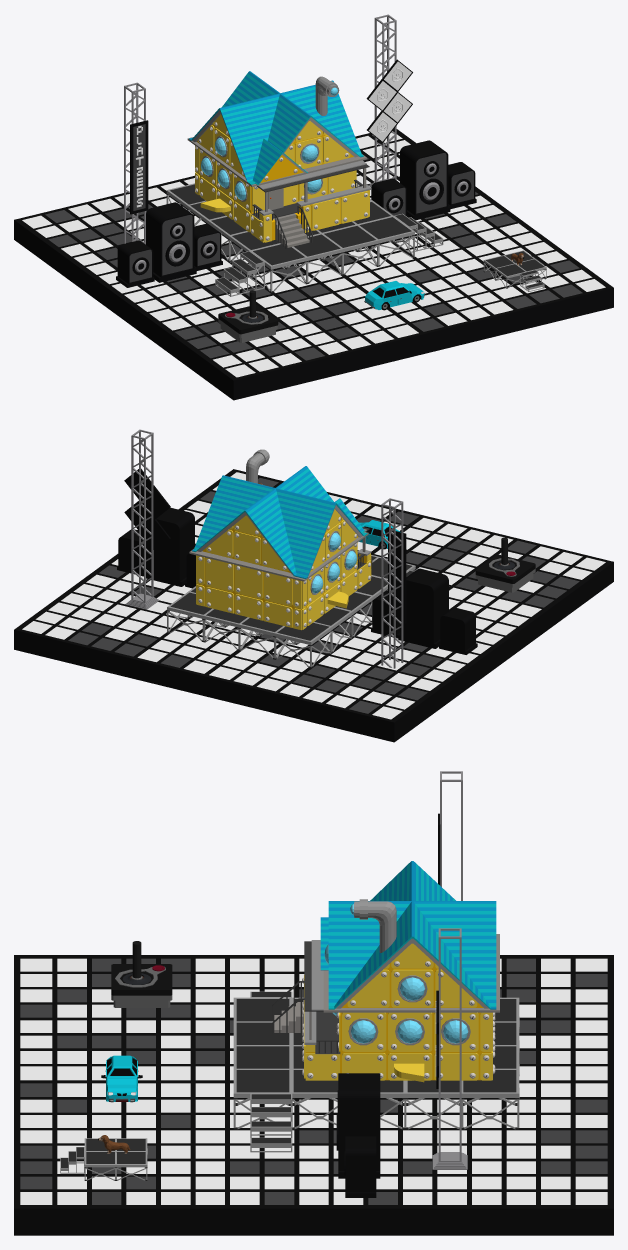
3 renders of one model, top to bottom at view 1: azimuth 30°, elevation 25°; view 2: azimuth 150°, elevation 25°; view 3: azimuth 270°, elevation 25°, orthographic. The views are drawn at different scales.
Visible parts, largest first — view 1: Cube.008, Cube.1366, OBJRANDOM_JOYSTICK, VEHICLES_CAR; view 2: Cube.008, Cube.1366, OBJRANDOM_JOYSTICK, VEHICLES_CAR; view 3: Cube.008, Cube.1366, OBJRANDOM_JOYSTICK, VEHICLES_CAR.
Boxes of the visible parts, left/top/right/bottom form: Cube.008: left=14, top=14, right=613, bottom=400; Cube.1366: left=187, top=71, right=371, bottom=248; OBJRANDOM_JOYSTICK: left=218, top=290, right=278, bottom=342; VEHICLES_CAR: left=364, top=281, right=424, bottom=310; Cube.008: left=14, top=429, right=613, bottom=742; Cube.1366: left=189, top=449, right=372, bottom=630; OBJRANDOM_JOYSTICK: left=475, top=537, right=535, bottom=592; VEHICLES_CAR: left=359, top=520, right=400, bottom=549; Cube.008: left=14, top=771, right=613, bottom=1235; Cube.1366: left=272, top=861, right=499, bottom=1082; OBJRANDOM_JOYSTICK: left=111, top=941, right=172, bottom=1007; VEHICLES_CAR: left=101, top=1055, right=142, bottom=1102.
Size of the model in its own units: 4000 by 1922 by 4000.
Materials: 42 (2 with a texture image).
